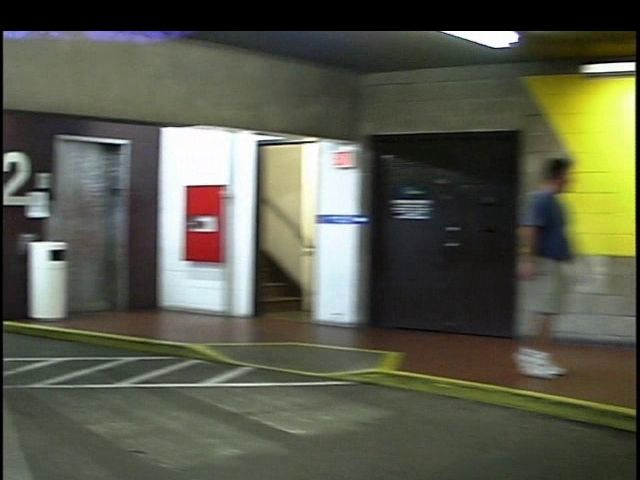person: (466, 151, 582, 383)
